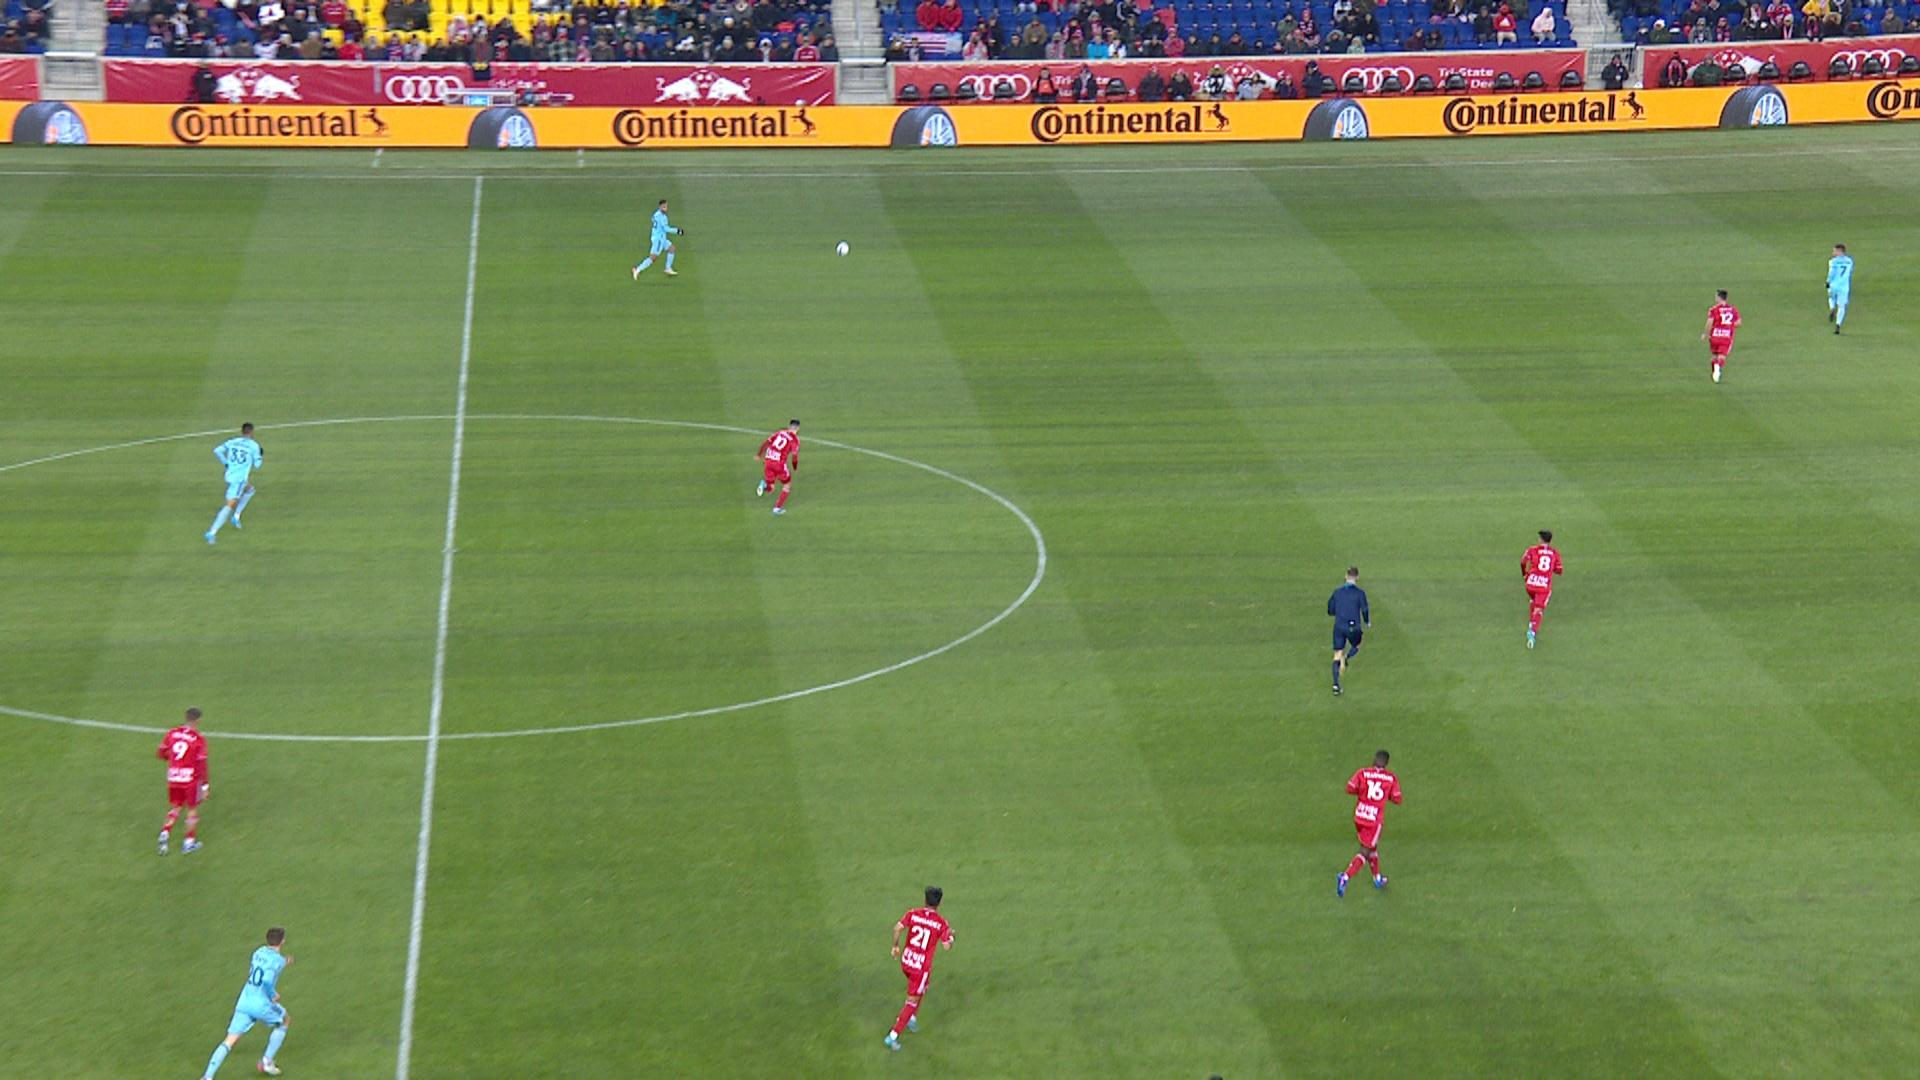football: (836, 241, 850, 257)
